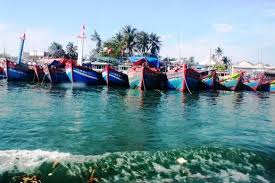tau_dansu: (126, 51, 165, 94), (7, 35, 32, 84), (168, 59, 202, 94), (68, 51, 98, 85), (100, 50, 127, 85), (220, 63, 247, 93), (241, 61, 266, 90), (202, 60, 221, 98)
